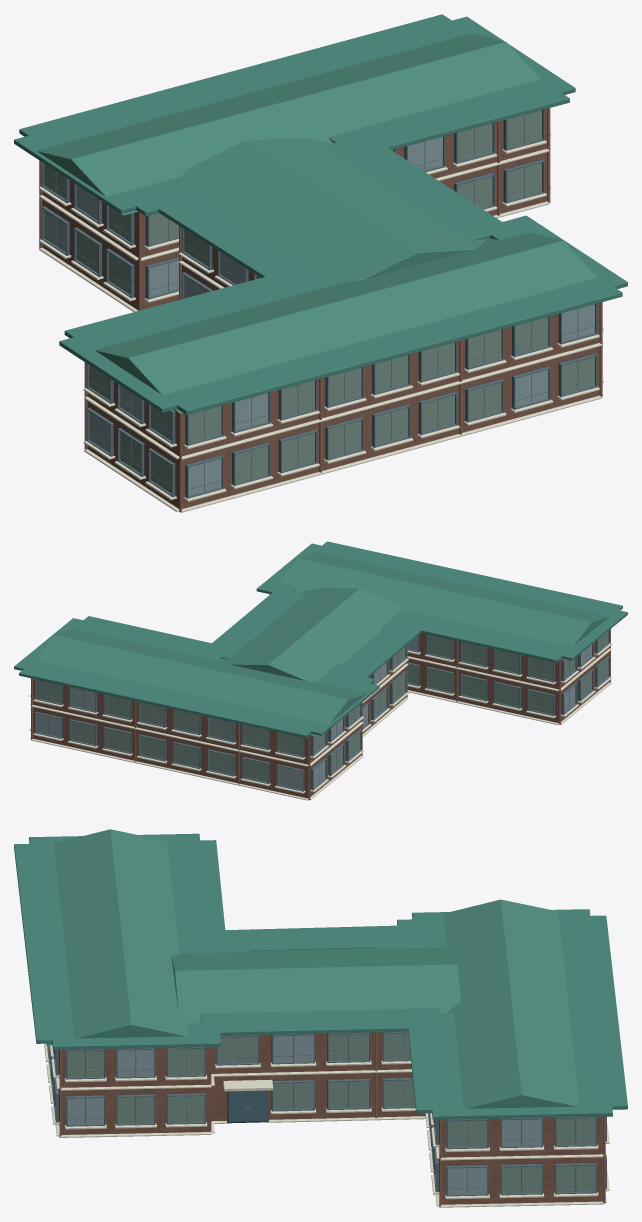
File: rodem.glb
3 renders of one model, top to bottom at view 1: azimuth 30°, elevation 25°; view 2: azimuth 150°, elevation 25°; view 3: azimuth 270°, elevation 25°, orthographic. The views are drawn at different scales.
Visible parts, largest first — view 1: rodem_body_508f80, rodem_stone_4c8c80, rodem_glass_7c9990, rodem_body_956e5e, rodem, rodem_stone_e7e7d5, rodem_glass_90a8b0, rodem_stone_956e5e; view 2: rodem_body_508f80, rodem_stone_4c8c80, rodem_glass_7c9990, rodem_body_956e5e, rodem, rodem_stone_e7e7d5, rodem_glass_90a8b0, rodem_stone_956e5e; view 3: rodem_body_508f80, rodem_stone_4c8c80, rodem_body_956e5e, rodem_glass_7c9990, rodem, rodem_stone_e7e7d5, rodem_glass_90a8b0, rodem_glass_52737d, rodem_stone_956e5e.
Part boxes in pixels (x1,y1,x2,y2): rodem_body_508f80: (37,33,597,413); rodem_stone_4c8c80: (14,14,627,414); rodem_glass_7c9990: (44,110,594,493); rodem_body_956e5e: (42,109,599,508); rodem: (41,109,597,498); rodem_stone_e7e7d5: (38,134,603,512); rodem_glass_90a8b0: (44,136,594,495); rodem_stone_956e5e: (39,108,602,512); rodem_body_508f80: (35,552,609,736); rodem_stone_4c8c80: (14,541,627,737); rodem_glass_7c9990: (36,631,608,782); rodem_body_956e5e: (33,633,609,798); rodem: (35,629,610,791); rodem_stone_e7e7d5: (29,643,612,800); rodem_glass_90a8b0: (36,636,591,789); rodem_stone_956e5e: (31,629,610,800); rodem_body_508f80: (46,829,579,1108); rodem_stone_4c8c80: (14,833,627,1119); rodem_body_956e5e: (59,1032,602,1204); rodem_glass_7c9990: (67,1033,595,1193); rodem: (47,1031,606,1196); rodem_stone_e7e7d5: (44,1043,609,1207); rodem_glass_90a8b0: (67,1035,541,1194); rodem_glass_52737d: (229,1090,266,1121); rodem_stone_956e5e: (59,1032,605,1207).
Size of the model in its own units: 46.28 by 8.7 by 42.47.
Materials: 13 (1 with a texture image).
